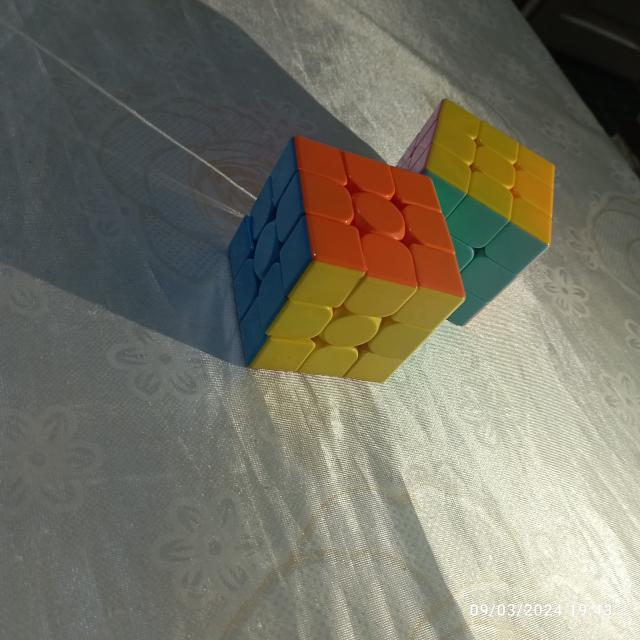Rub: (224, 128, 468, 386), (386, 94, 557, 329)
